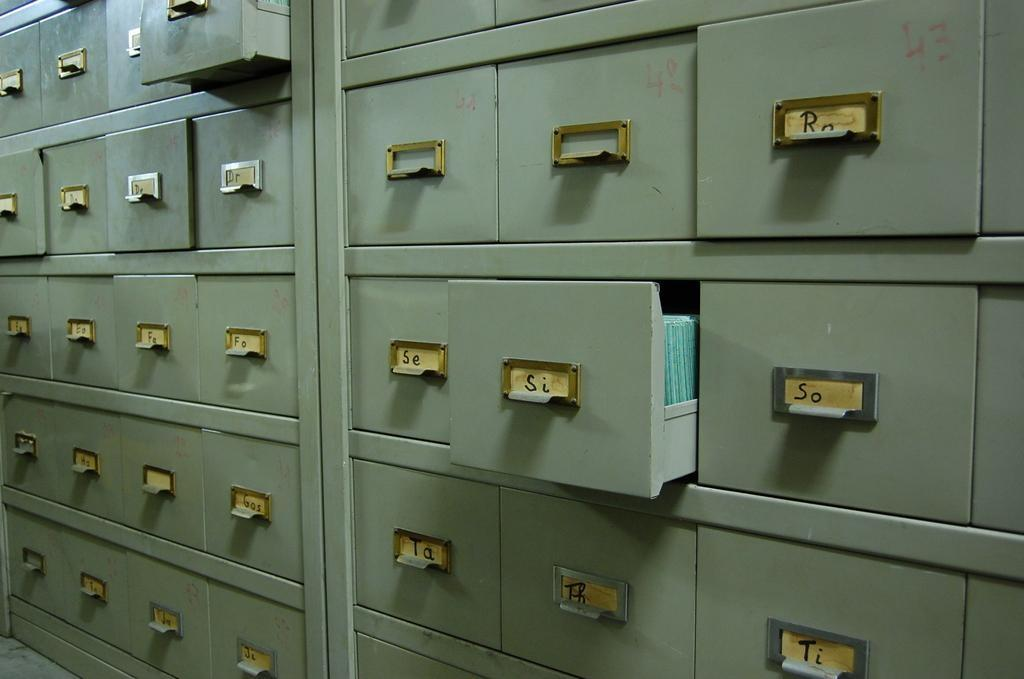Filing Cabinet: (310, 0, 1023, 678), (0, 0, 330, 678)
